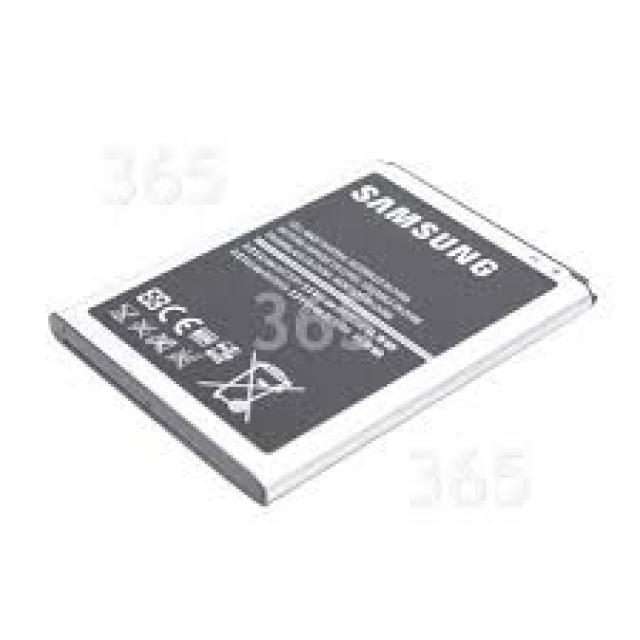non-organic waste: (52, 158, 598, 506)
